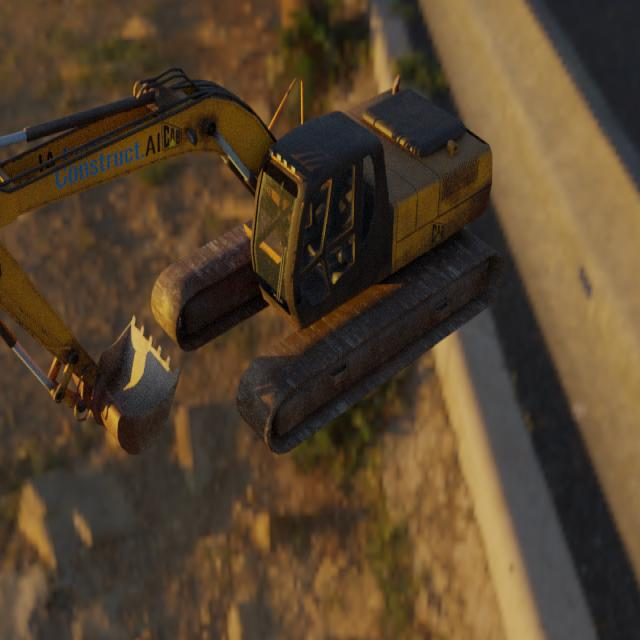excavator: (0, 65, 504, 455)
